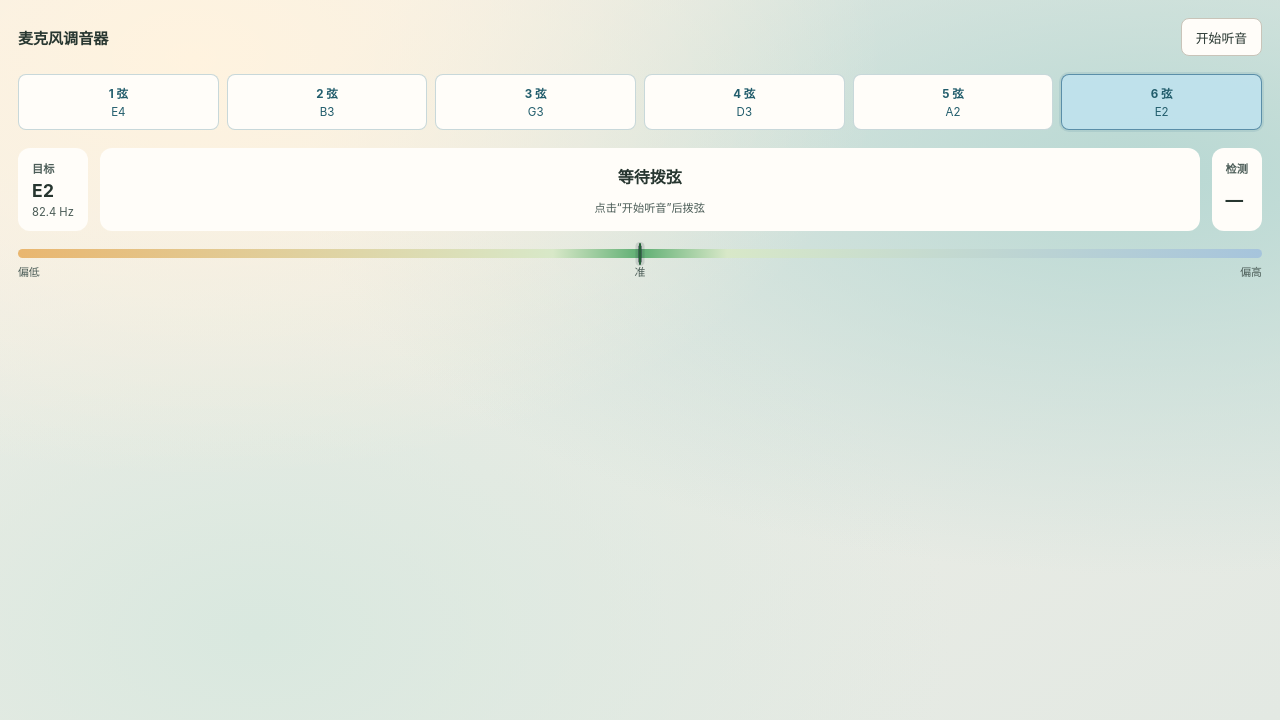
Scenario: GuitarTuner › releases the microphone when AudioContext constructor fails after permission succeeds
Click the button "开始听音": click(1221, 37) [1181, 18, 1262, 56]
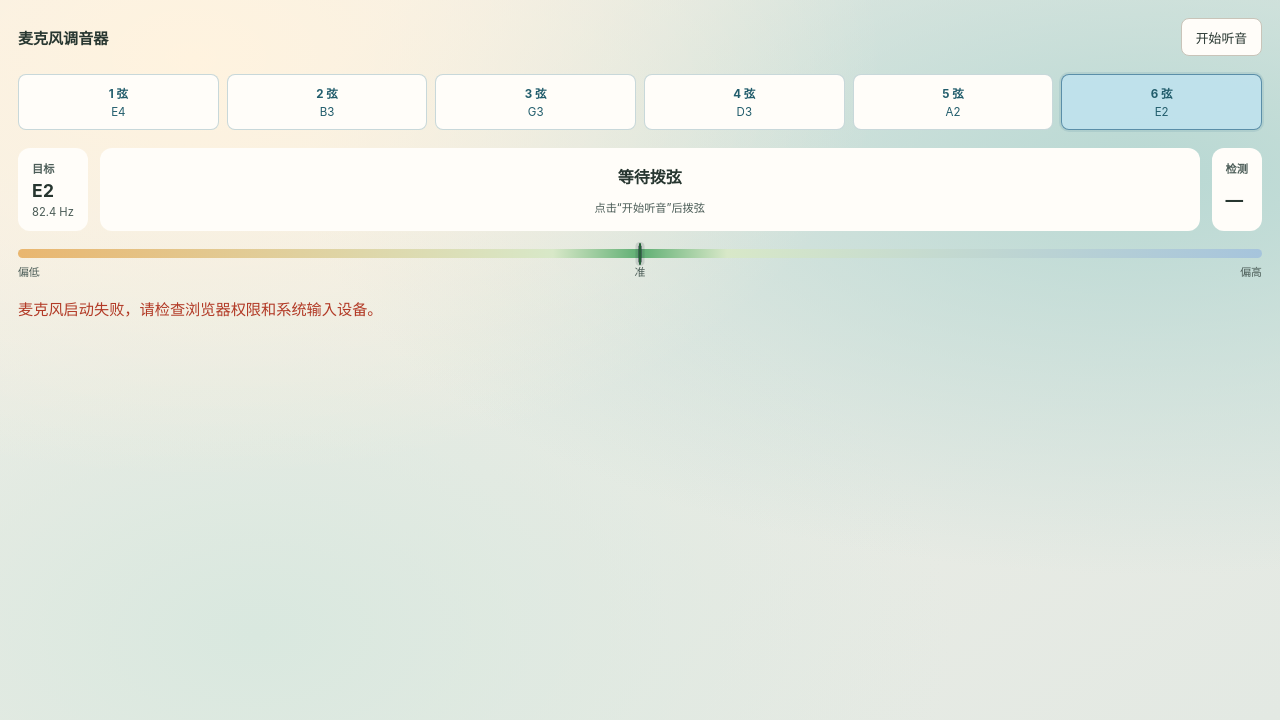
Check: the text "麦克风启动失败，请检查浏览器权限和系统输入设备。" is shown, box [18, 300, 382, 319]
